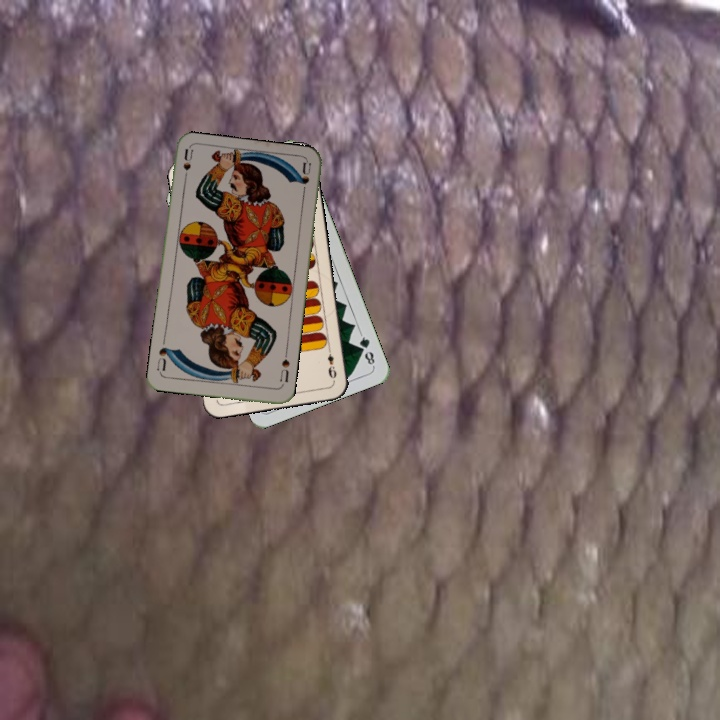E9: (323, 343, 339, 381)
G8: (355, 330, 377, 369)
SU: (179, 146, 195, 187), (276, 355, 292, 389)
